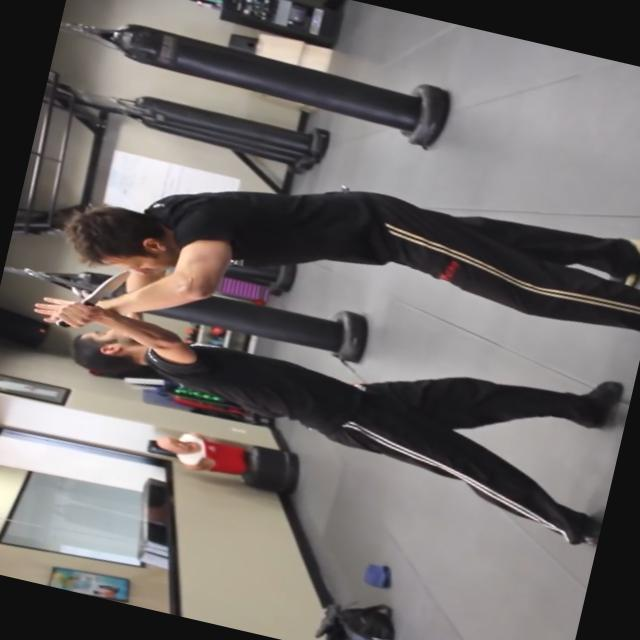knife: (46, 252, 138, 342)
